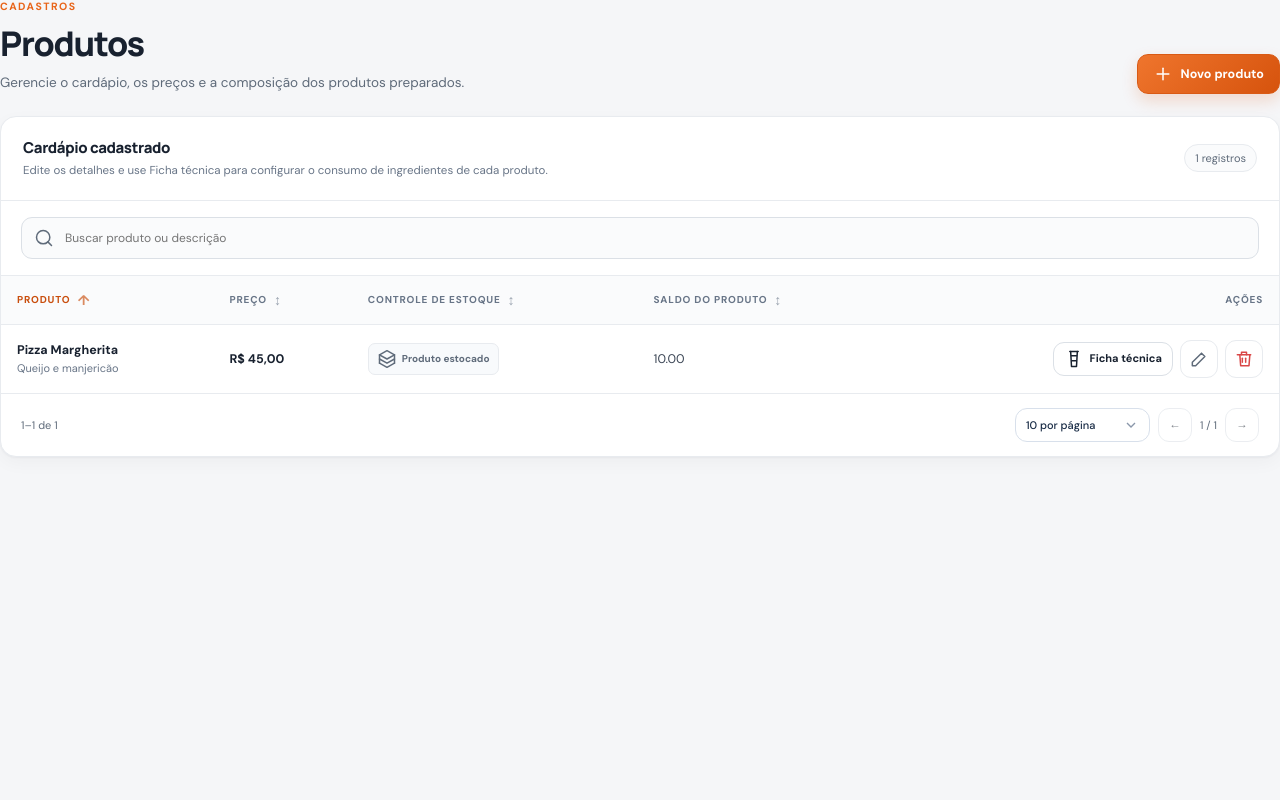
Test: salvar fecha o painel e atualiza o modo na lista sem perder os dados do produto
The image size is (1280, 800).
Expected: the text "Pizza Margherita" is shown, [17,342,118,358]
Click the button with aria-label "Ficha técnica de Pizza Margherita": point(1113, 359) [1052,342,1173,376]
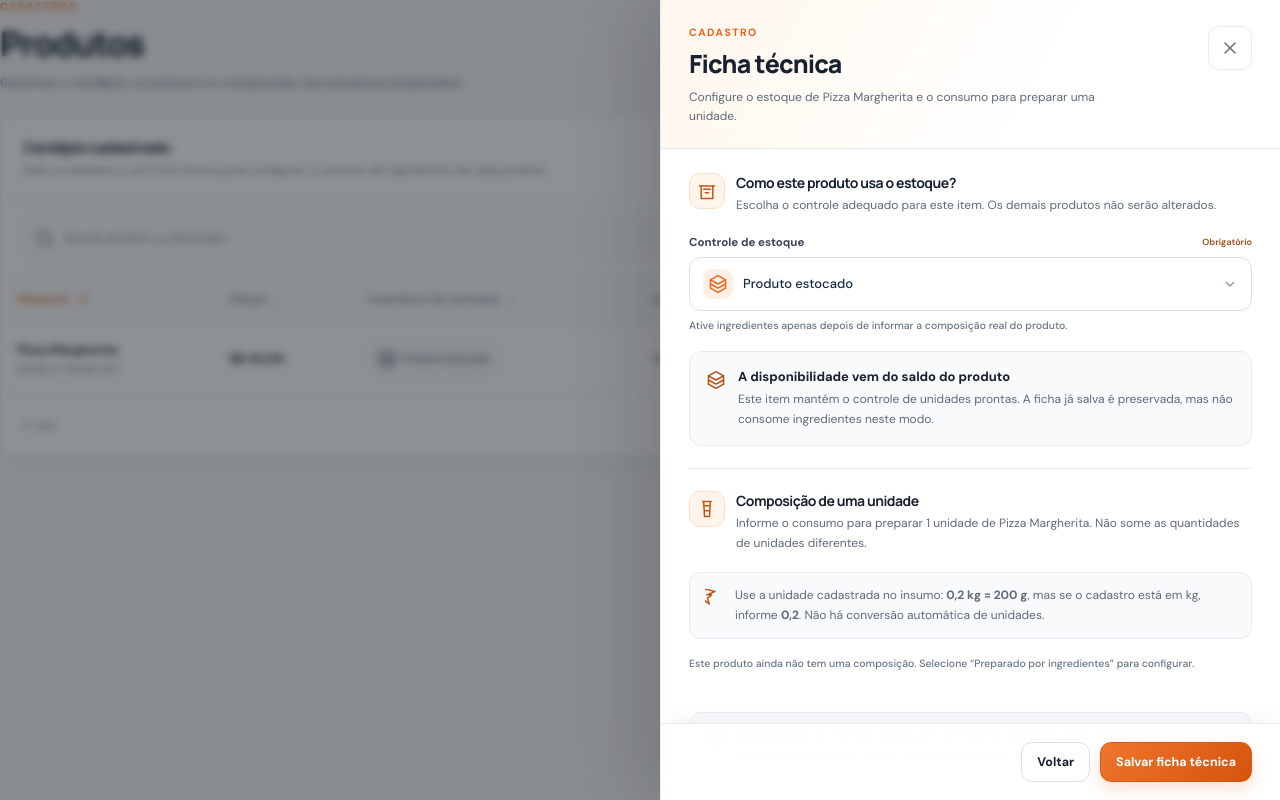
Expected: the button "Salvar ficha técnica" is shown, [1100,742,1252,782]
Select "Preparado por ingredientes" in the dropdown labelled "Controle de estoque": point(747, 242) [689,235,804,250]
(page scrolled)
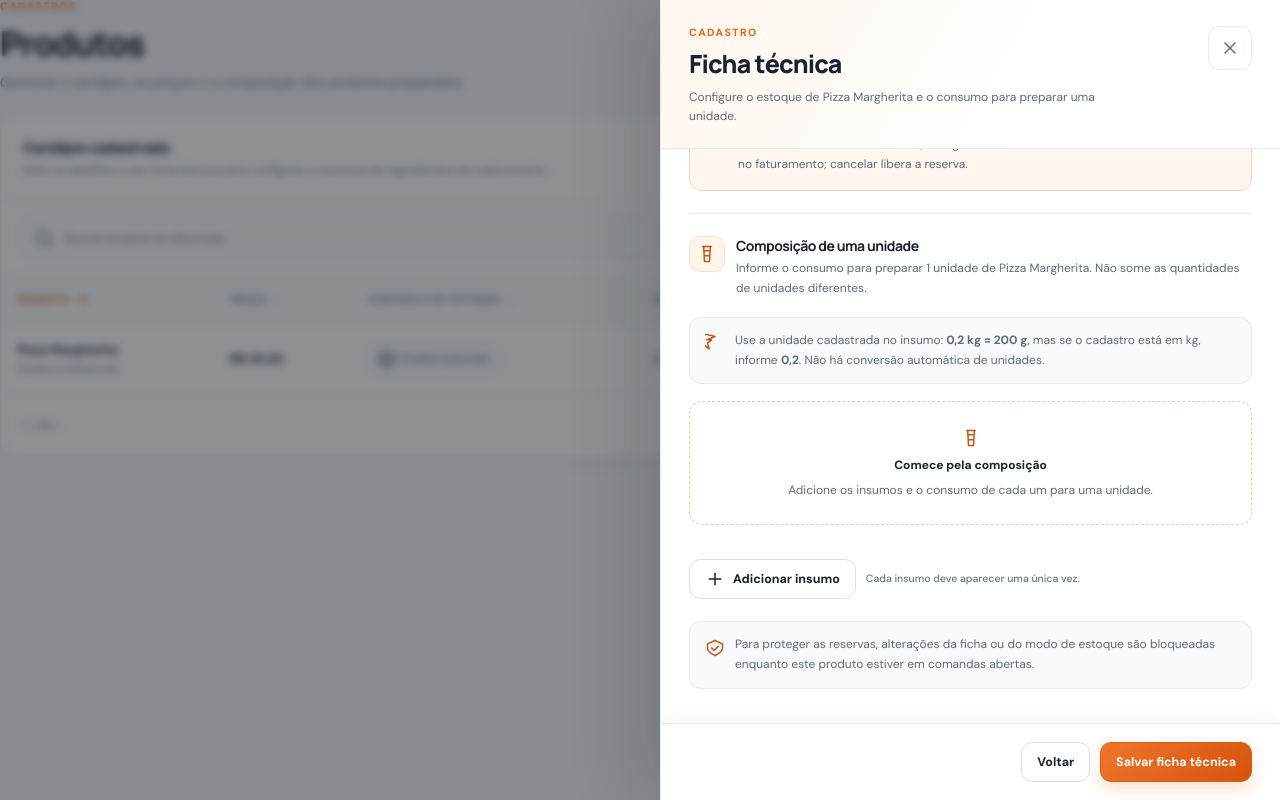
Click the button "Adicionar insumo": point(772, 579) [689,559,856,599]
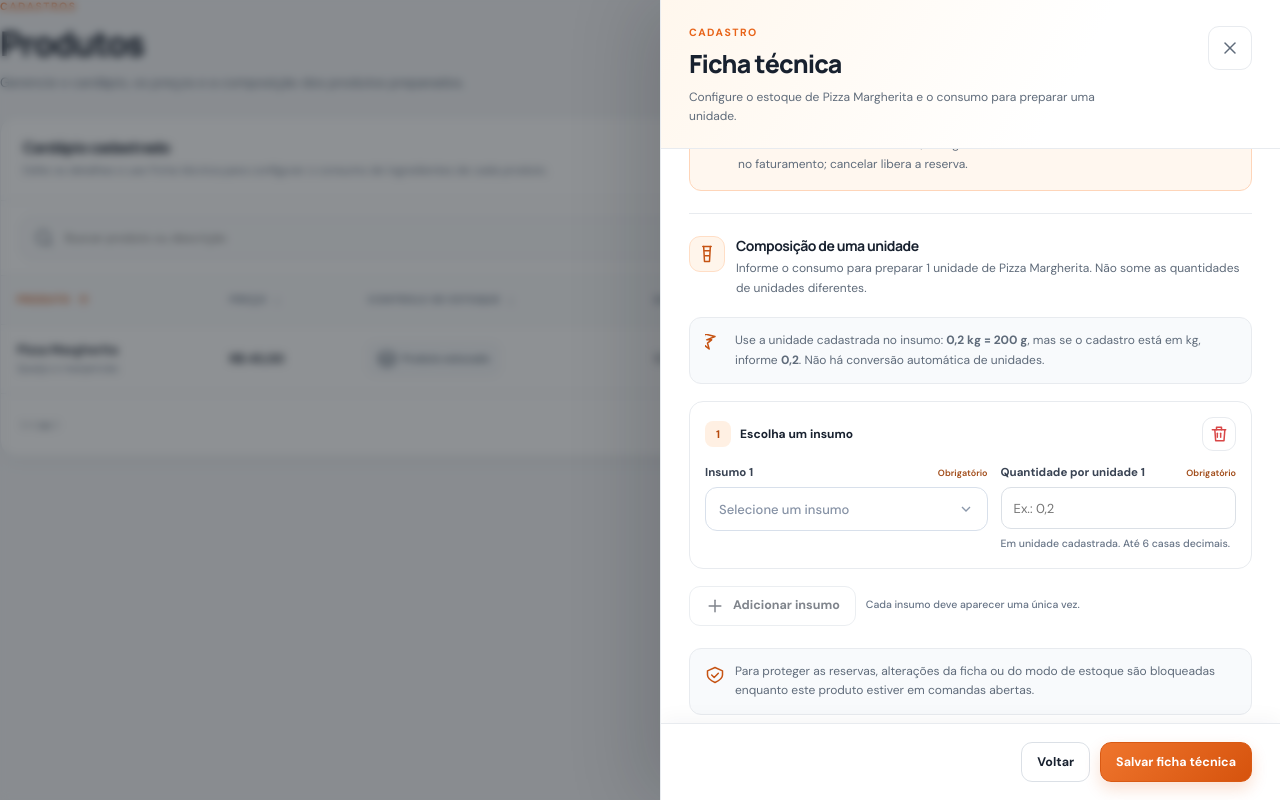
Select "Queijo · kg" in the dropdown labelled "Insumo 1": point(729, 473) [705,465,753,480]
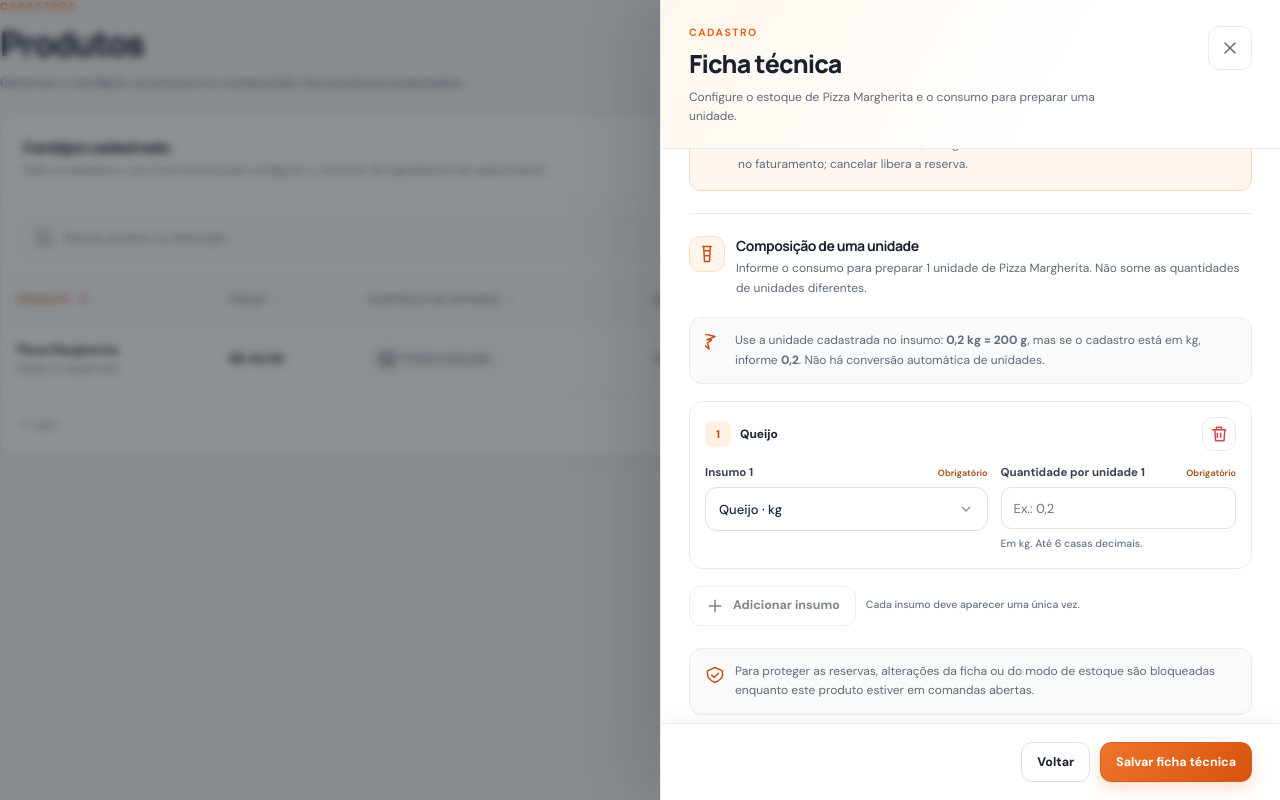
In the field labelled "Quantidade por unidade 1": point(1118, 508) [1000,487,1236,529], type "0.2"
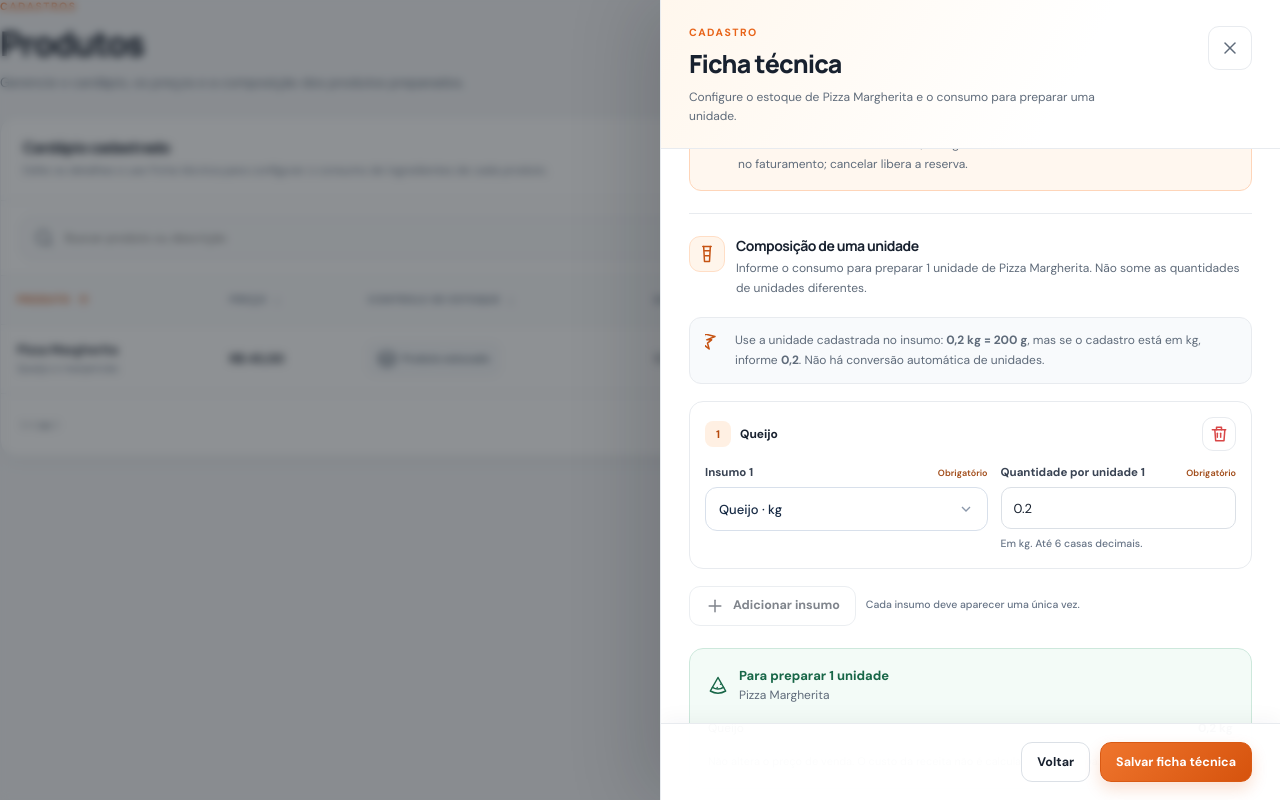
Click the button "Salvar ficha técnica": point(1176, 762) [1100,742,1252,782]
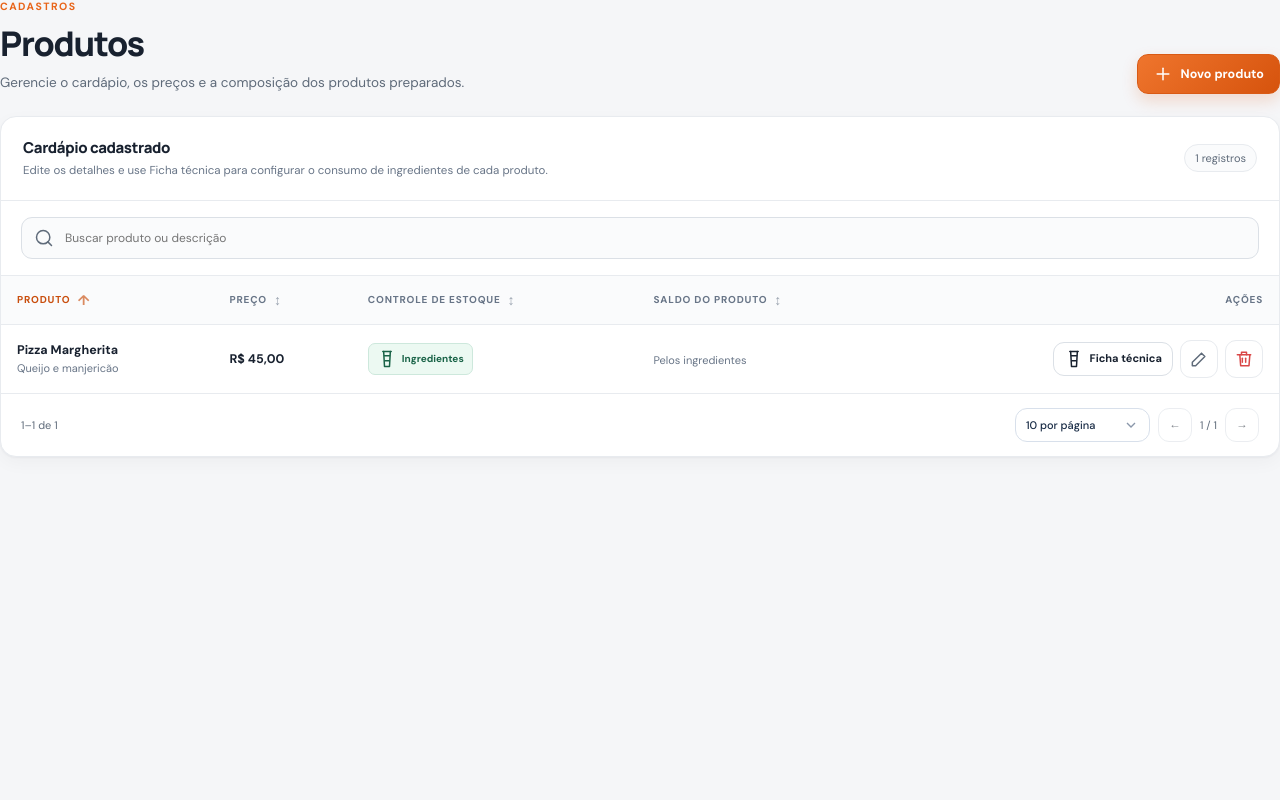
Expected: the dialog is gone
Expected: the text "Ingredientes" is shown, [368,343,473,375]
Expected: the text "Pelos ingredientes" is shown, [654,353,746,367]
